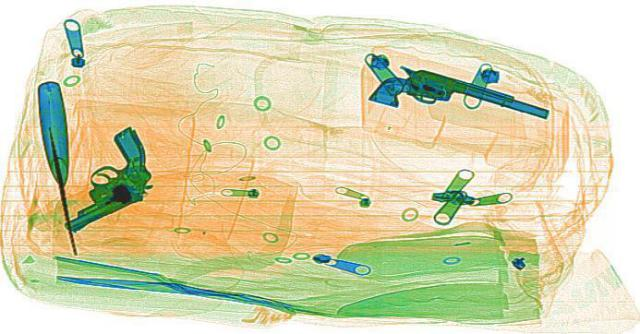Gun: (0, 123, 211, 225), (358, 61, 558, 140)
Knife: (30, 79, 90, 251)
